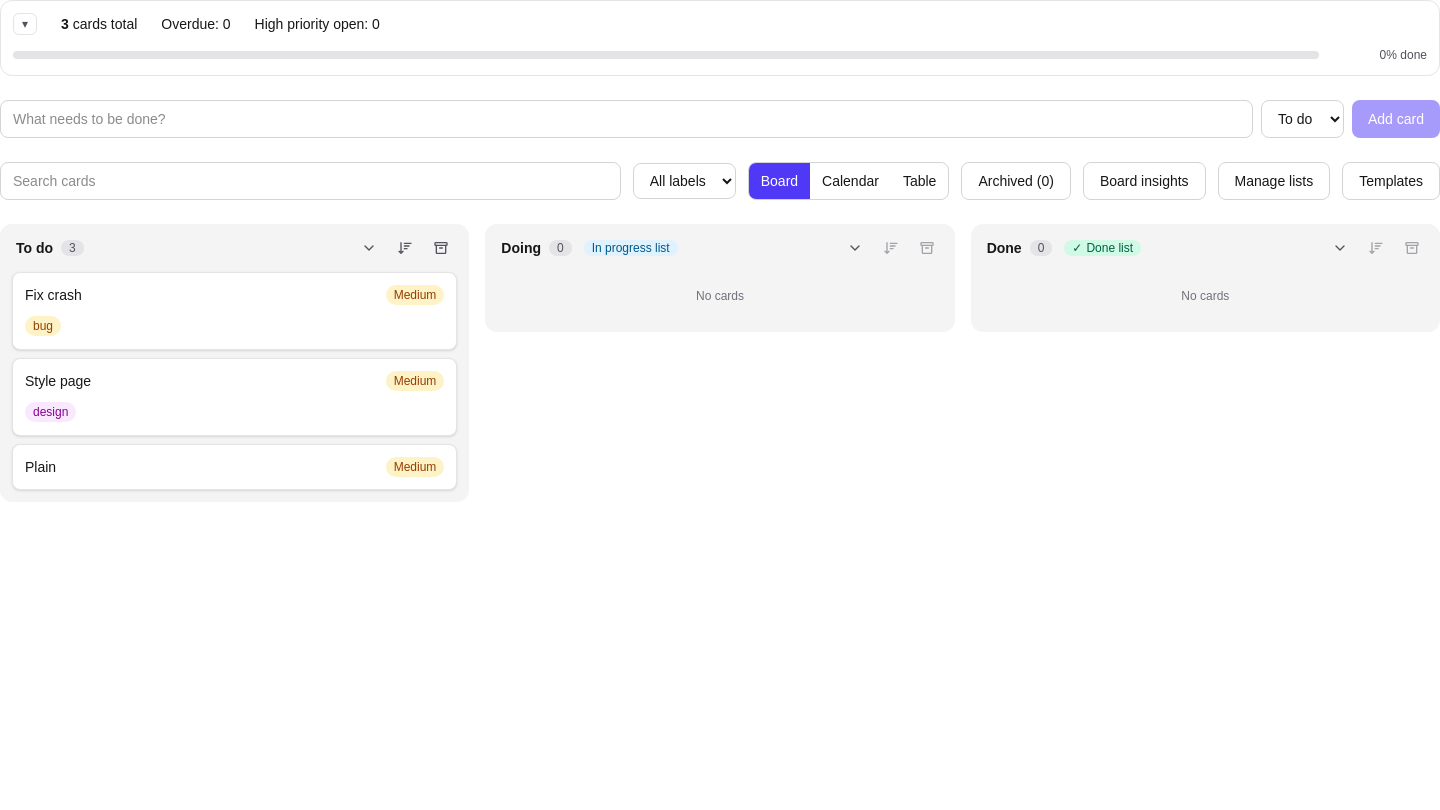
<Board /> labels › lapses when no card has the label any more
Click the button named "Filter by label \"bug\"" at (43, 326), box [25, 316, 61, 336]
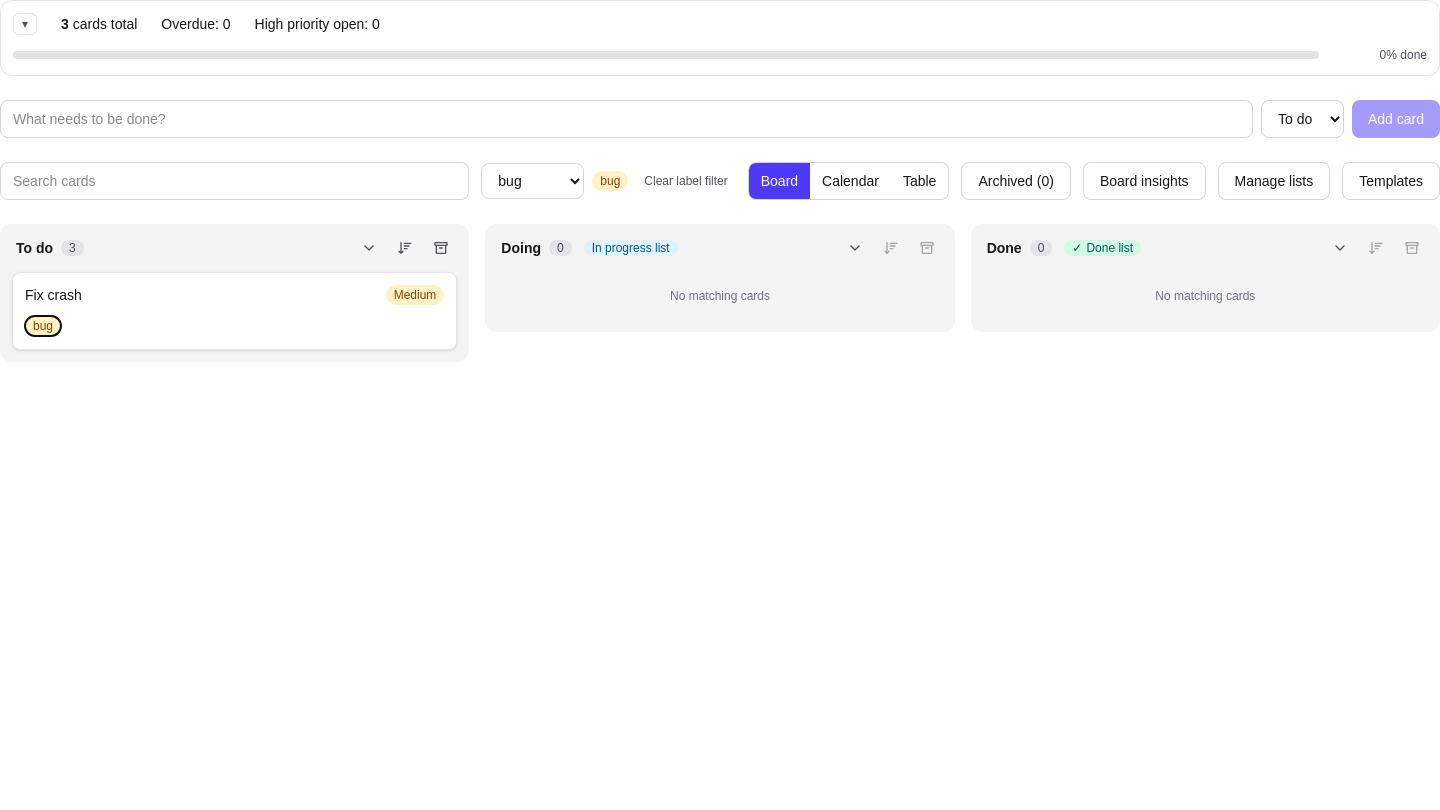
Click the button "Fix crash" at (53, 295), box [25, 285, 82, 305]
(page scrolled)
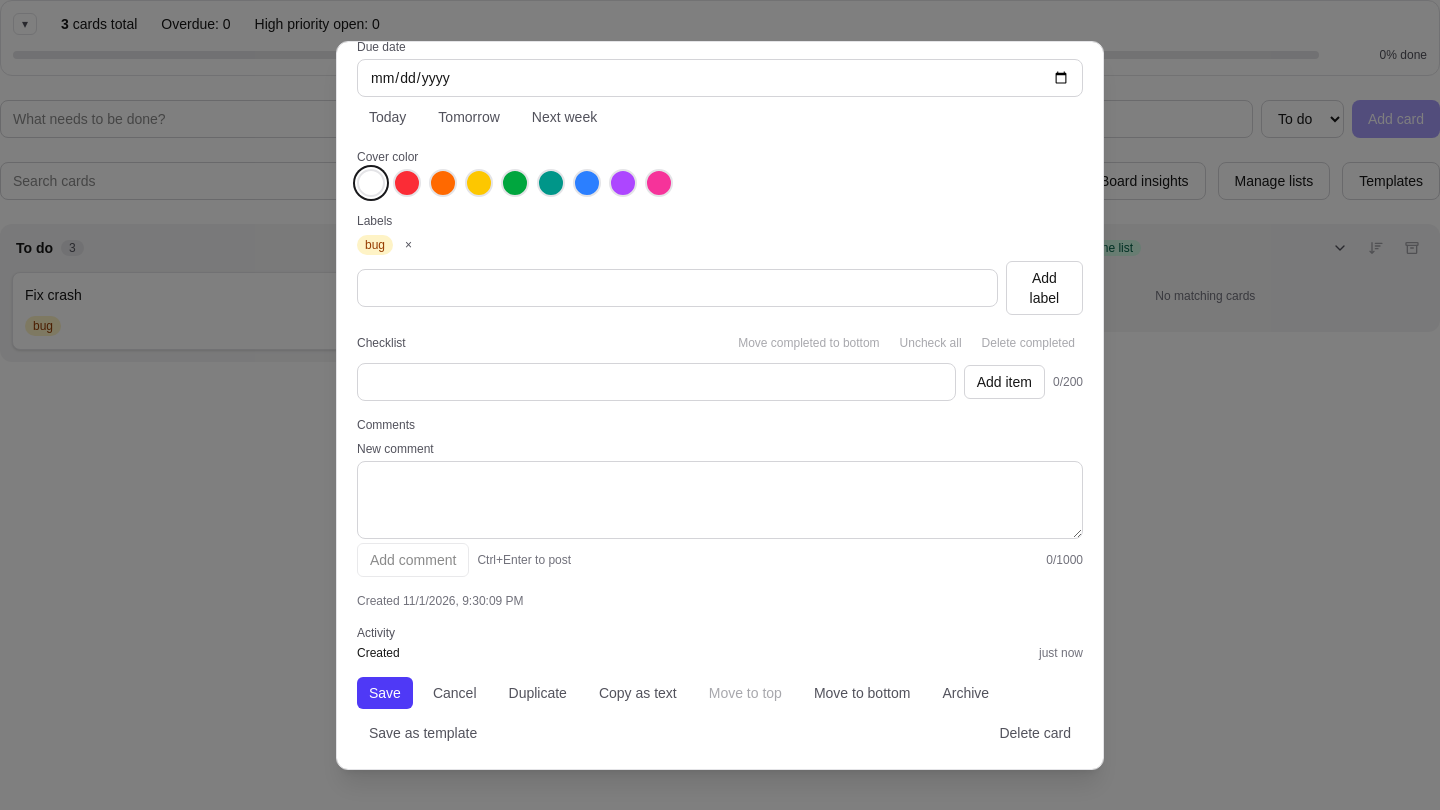
Click the button "Delete card" at (1035, 732), box [987, 716, 1083, 748]
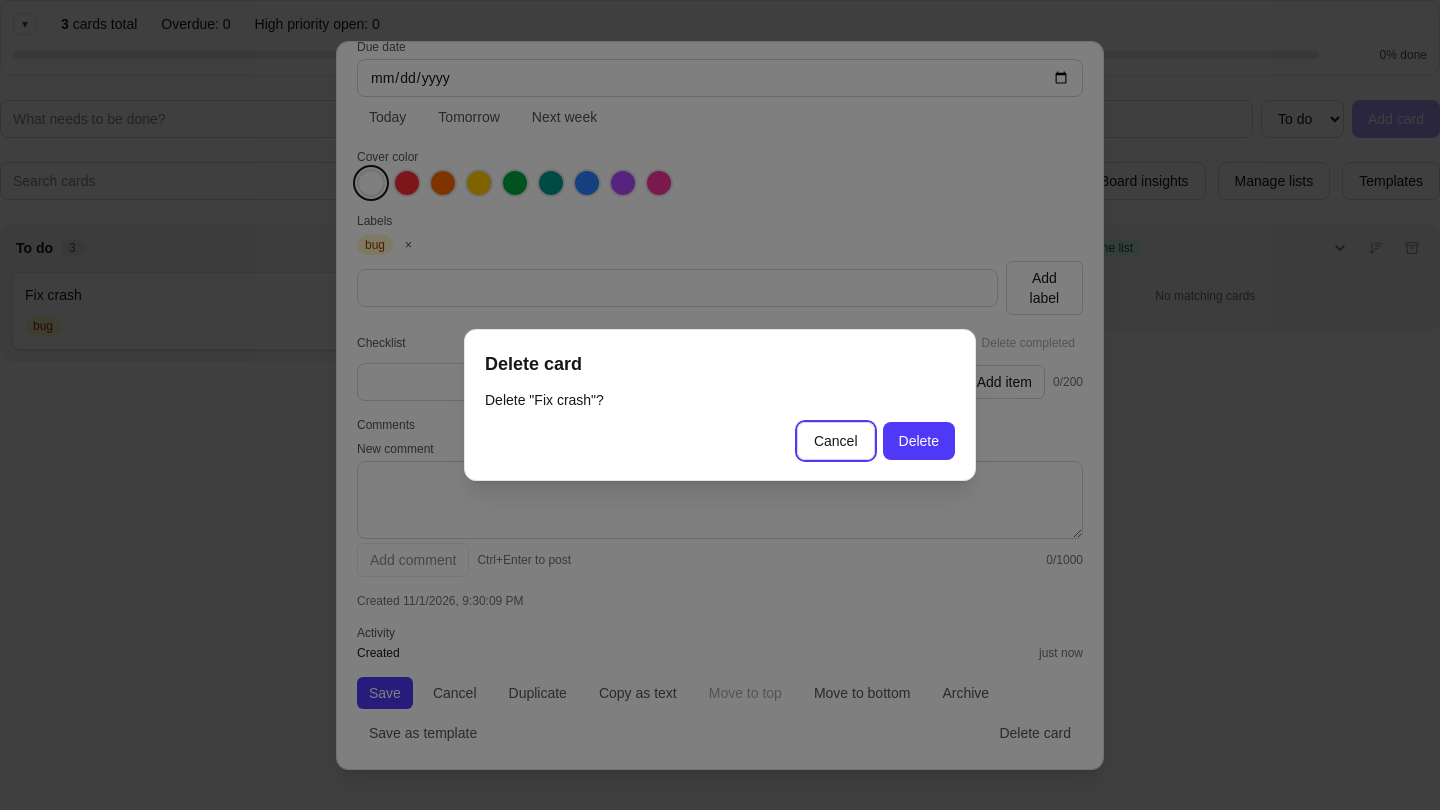
Click the button "Delete" at (919, 441), box [882, 422, 955, 460]
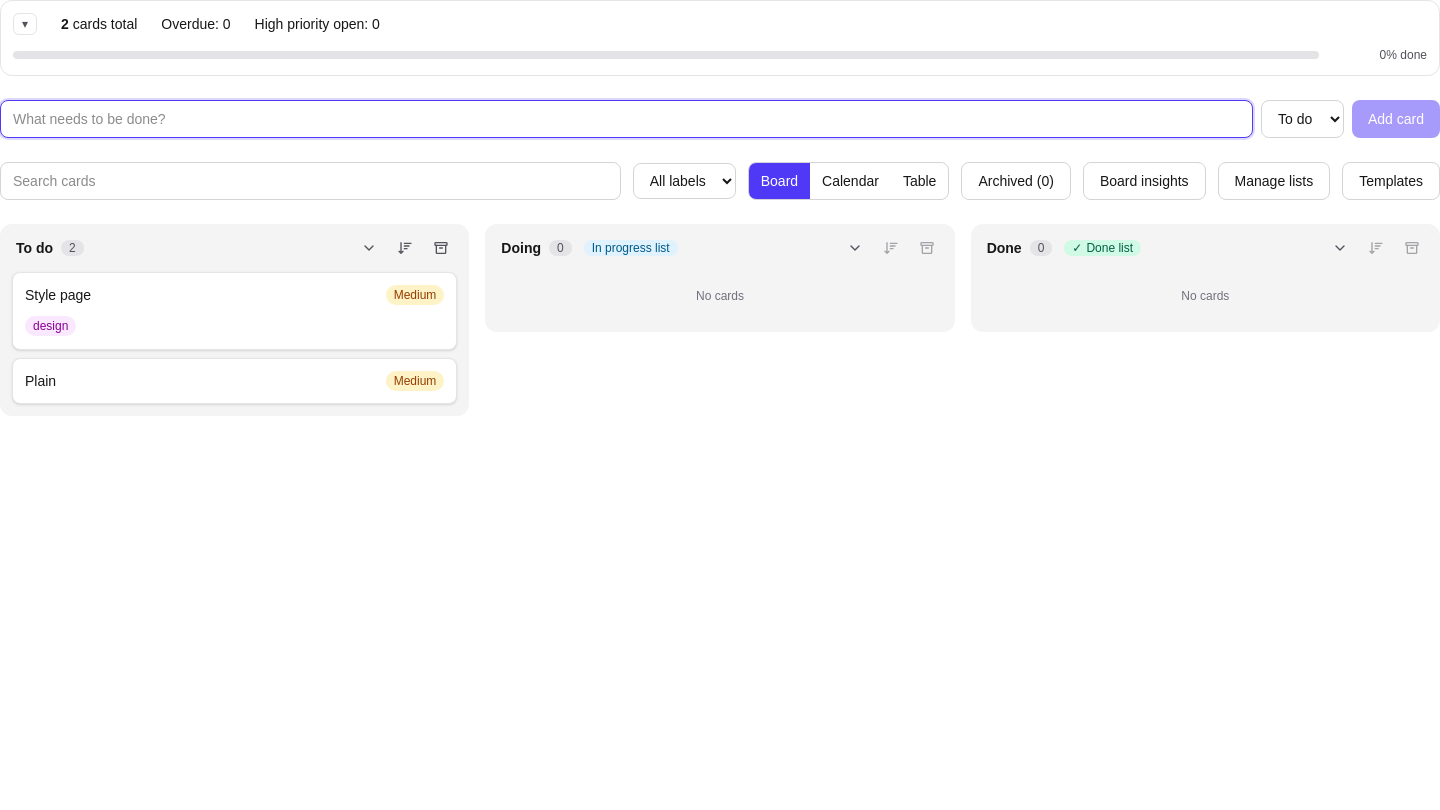
Now the button "Style page" is shown, box [25, 285, 91, 305]
Now the button "Plain" is shown, box [25, 371, 56, 391]
